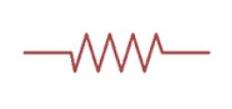resistor: (57, 27, 178, 80)
